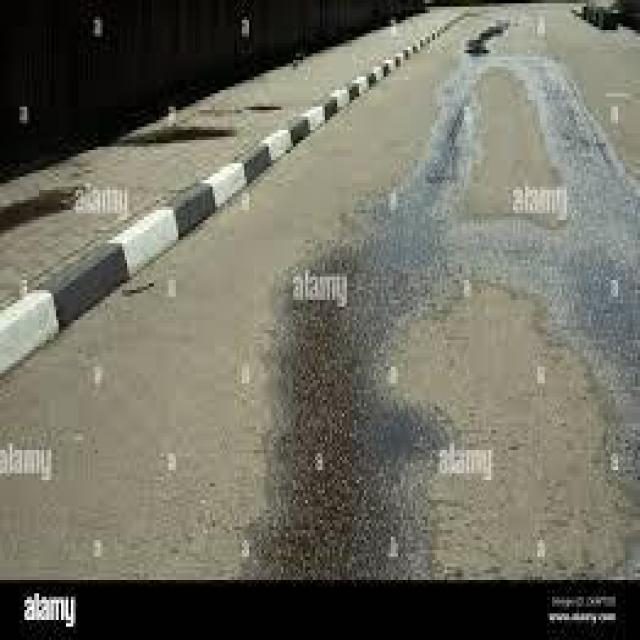curb: (34, 235, 128, 332), (2, 281, 58, 373), (112, 205, 177, 276), (163, 181, 214, 238)
